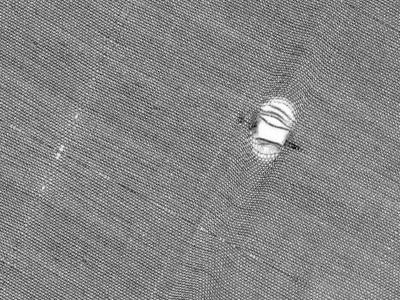hole: (245, 92, 299, 163)
